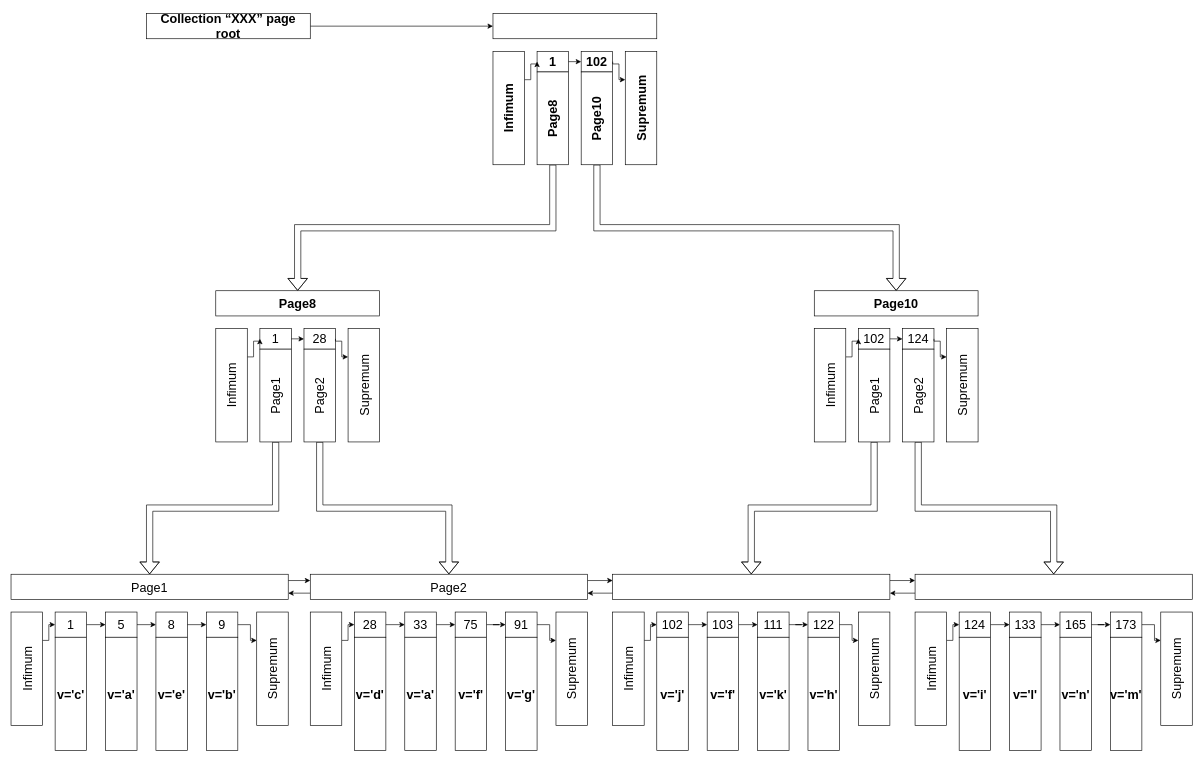
This 1203x762 diagram has some shape labels left out. The box of each missing label's shape, as (x1, y1, x2, y2) in pixels:
Page200: (492, 13, 657, 39)
Page67: (612, 574, 890, 599)
Page77: (914, 574, 1192, 599)
